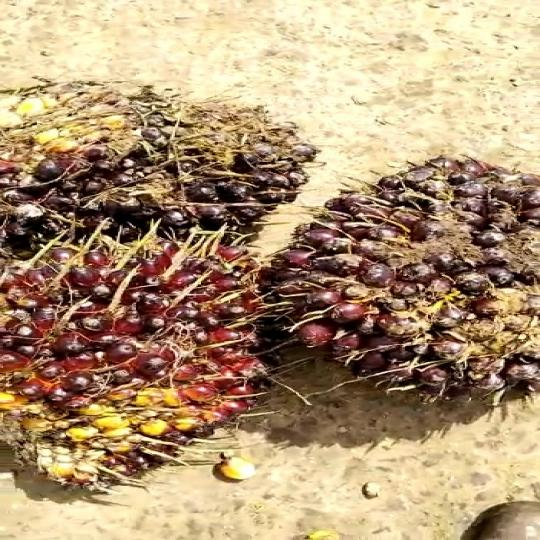kurang masak: (270, 142, 540, 408), (0, 235, 270, 498), (0, 84, 301, 258)
